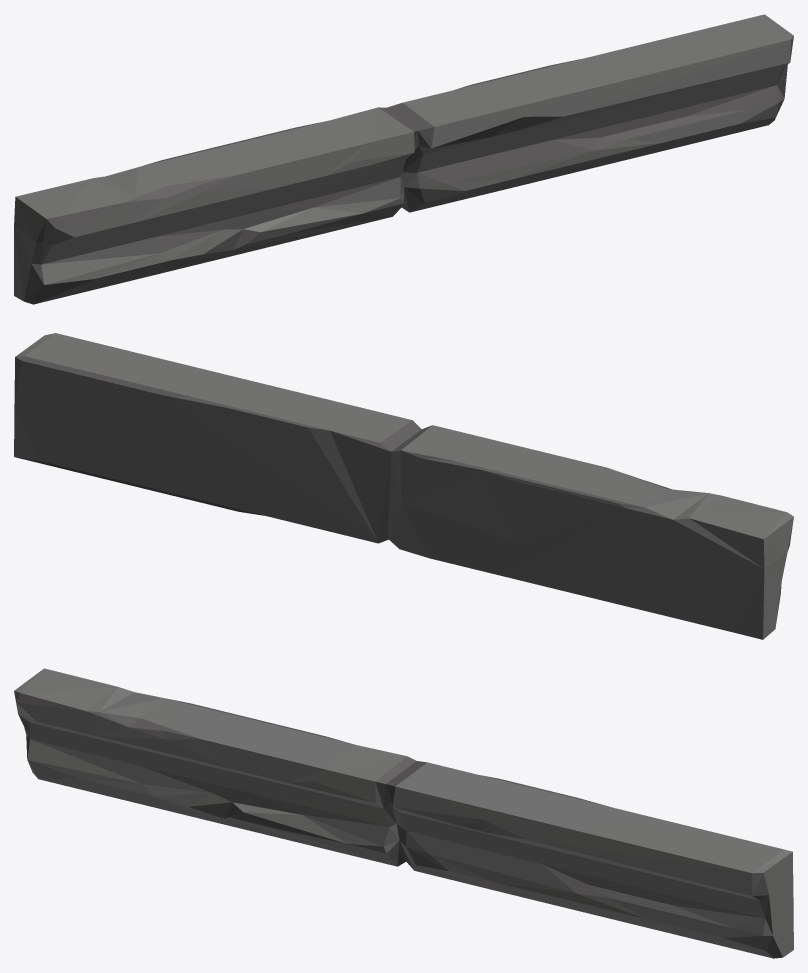
Rendered from SM_Env_Wall_Trim_Top_02.FBX.
3 views of the same model, one above another, from view 1: azimuth 30°, elevation 25°; view 2: azimuth 150°, elevation 25°; view 3: azimuth 330°, elevation 25° (orthographic).
Parts seen in each view (by area): view 1: SM_Env_Wall_Trim_Top_02; view 2: SM_Env_Wall_Trim_Top_02; view 3: SM_Env_Wall_Trim_Top_02.
Part boxes in pixels (box(x1,y1,x2,y2)): SM_Env_Wall_Trim_Top_02: box(14, 14, 793, 304); SM_Env_Wall_Trim_Top_02: box(14, 333, 793, 639); SM_Env_Wall_Trim_Top_02: box(14, 668, 793, 958).
Size of what is drawn, in the model's own units: 509 by 41.09 by 66.3.
